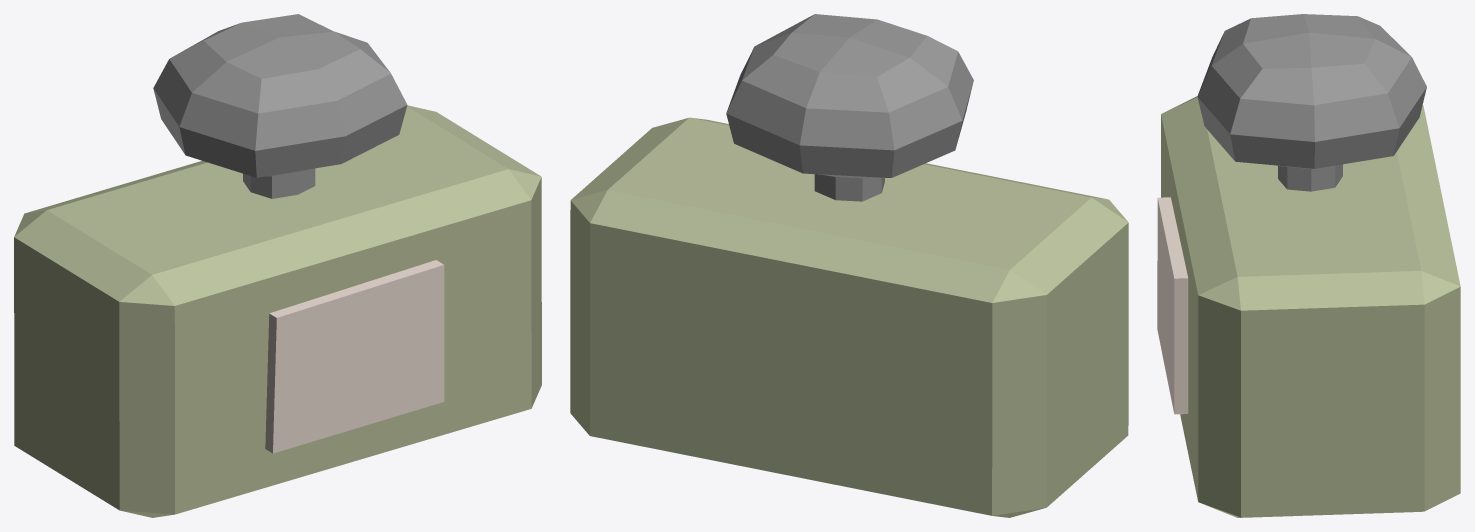
The model's file is Perfume_2.fbx.
3 views of the same model, side by side, from view 1: azimuth 30°, elevation 25°; view 2: azimuth 150°, elevation 25°; view 3: azimuth 270°, elevation 25° (orthographic). The views are drawn at different scales.
Visible parts, largest first — view 1: Perfume_2; view 2: Perfume_2; view 3: Perfume_2.
Boxes of the visible parts, bbox=[...] form: Perfume_2: bbox=[14, 14, 541, 517]; Perfume_2: bbox=[570, 14, 1128, 517]; Perfume_2: bbox=[1157, 14, 1460, 517].
Size of the model in its own units: 21.03 by 12.19 by 17.39.
